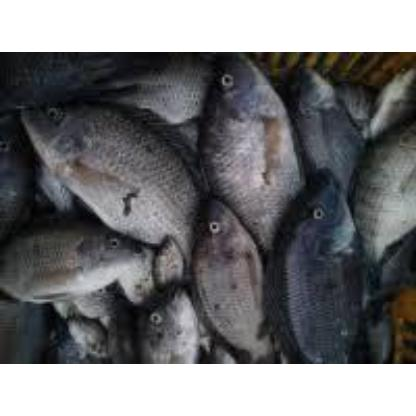ikan-pacu: (270, 168, 352, 362), (208, 52, 296, 226), (192, 201, 272, 363), (0, 225, 134, 305)
